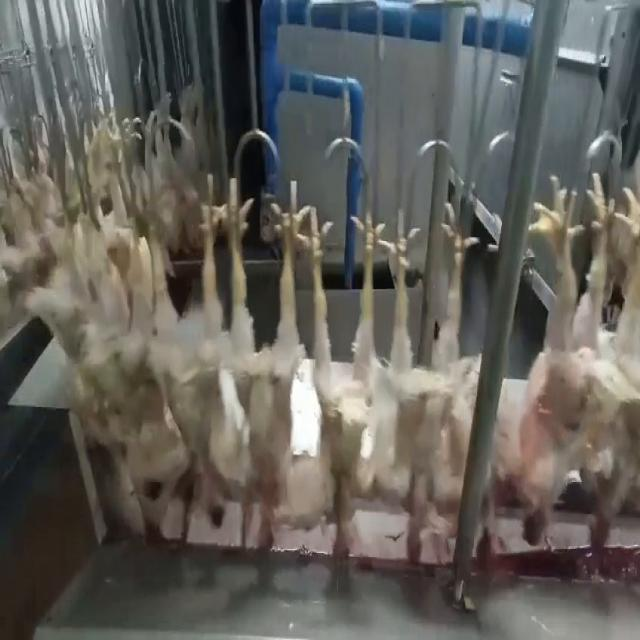chicken: (502, 174, 600, 545), (384, 197, 480, 566), (212, 174, 303, 554), (132, 189, 222, 551), (305, 201, 388, 562), (583, 175, 639, 558)
